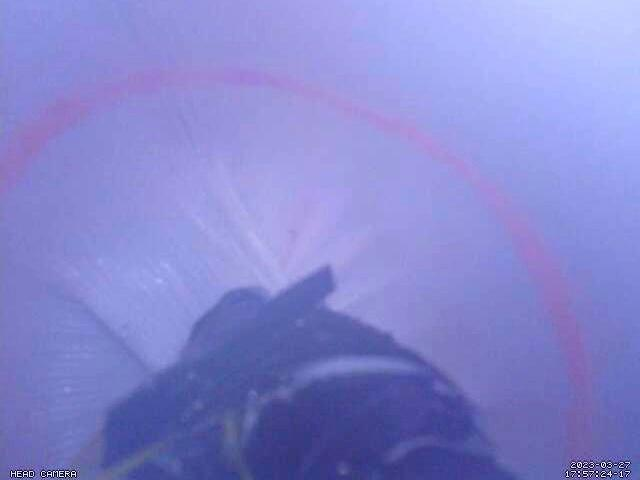head: (0, 65, 595, 480)
